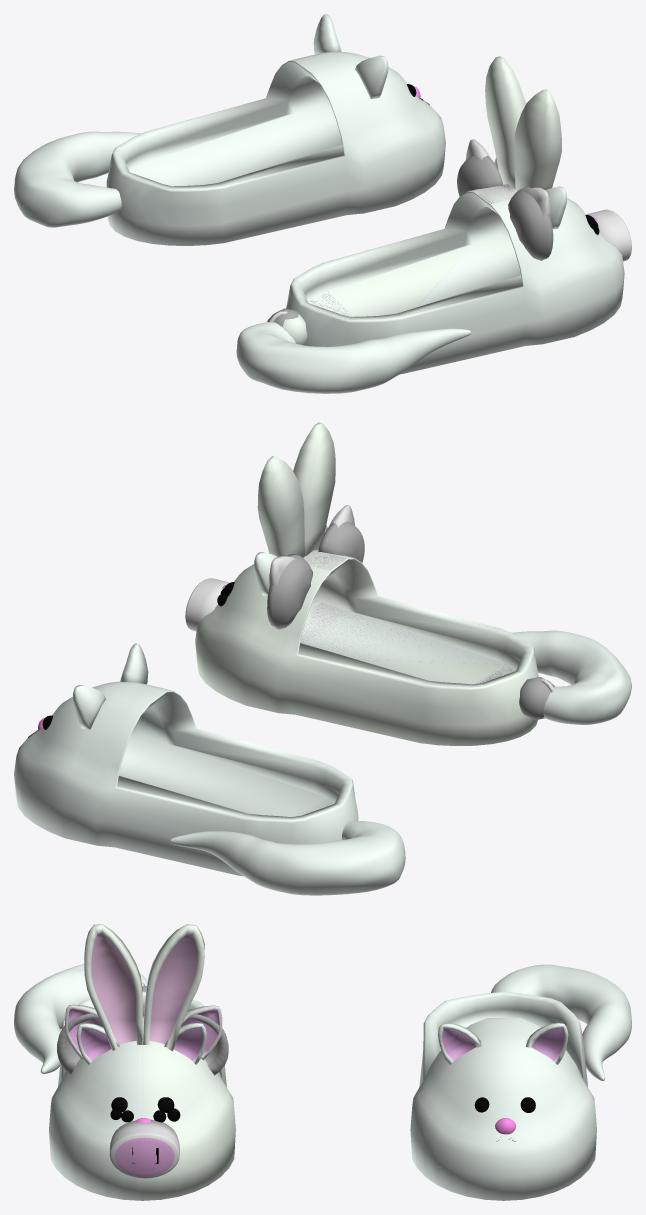
File: PlayerSlippers.fbx
The picture shows the model from 3 angles, top to bottom: view 1: azimuth 30°, elevation 25°; view 2: azimuth 150°, elevation 25°; view 3: azimuth 270°, elevation 25°; orthographic projection.
Parts seen in each view (by area): view 1: Cube.053, Cube.055, BunnySlipper, BearSlipper, PiggySlipper; view 2: Cube.053, BunnySlipper, Cube.055, BearSlipper, PiggySlipper; view 3: Cube.053, BunnySlipper, Cube.055, PiggySlipper, BearSlipper, CatEyes.
Part boxes in pixels (x1,y1,x2,y2): Cube.053: [14, 14, 445, 245]; Cube.055: [236, 157, 624, 393]; BunnySlipper: [282, 56, 561, 345]; BearSlipper: [267, 156, 553, 327]; PiggySlipper: [269, 139, 631, 322]; Cube.053: [14, 643, 405, 895]; BunnySlipper: [195, 422, 555, 745]; Cube.055: [254, 525, 631, 730]; BearSlipper: [267, 521, 554, 719]; PiggySlipper: [185, 505, 554, 728]; Cube.053: [410, 964, 631, 1200]; BunnySlipper: [80, 924, 235, 1200]; Cube.055: [14, 964, 220, 1200]; PiggySlipper: [65, 983, 222, 1200]; BearSlipper: [57, 986, 228, 1075]; CatEyes: [474, 1097, 535, 1112].
Bounding box in the file's own units: 136 × 75.37 × 181.
